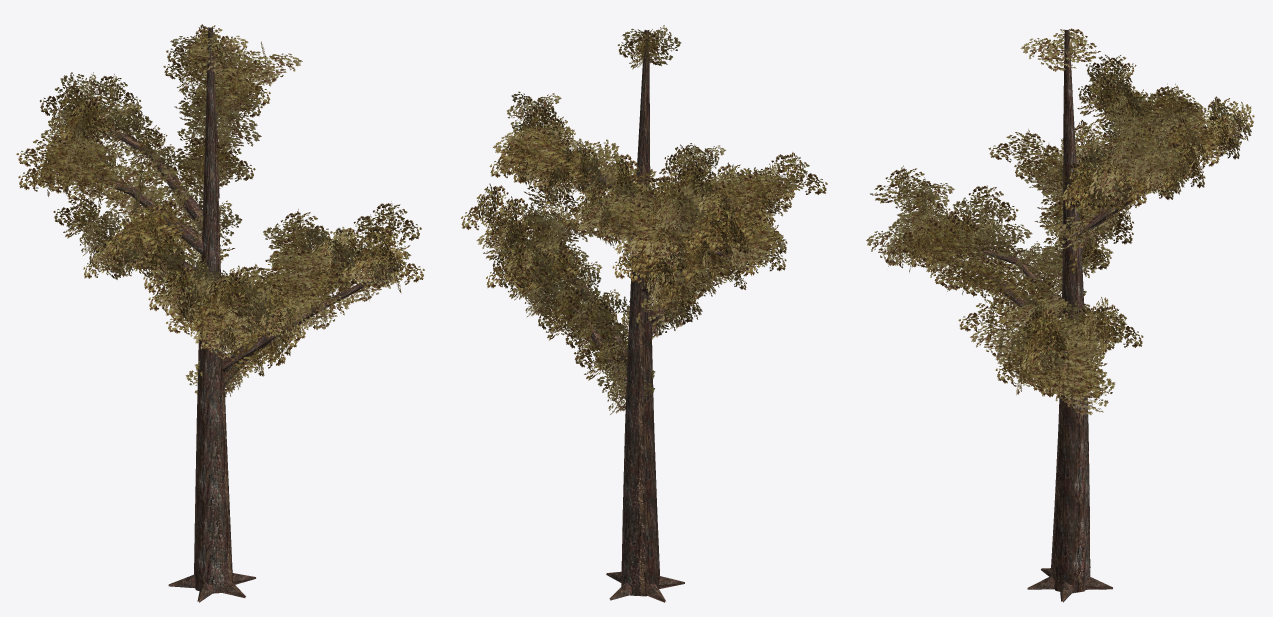
File: tree_3d_01_golden_beige_lod1.glb
3 views of the same model, side by side, from view 1: azimuth 30°, elevation 25°; view 2: azimuth 150°, elevation 25°; view 3: azimuth 270°, elevation 25° (orthographic).
Parts seen in each view (by area): view 1: foliage_cards, wood_geometry; view 2: foliage_cards, wood_geometry; view 3: foliage_cards, wood_geometry.
Part boxes in pixels (bbox=[...]): foliage_cards: bbox=[16, 24, 424, 396]; wood_geometry: bbox=[73, 27, 400, 602]; foliage_cards: bbox=[461, 25, 827, 414]; wood_geometry: bbox=[511, 30, 759, 602]; foliage_cards: bbox=[866, 28, 1254, 415]; wood_geometry: bbox=[909, 29, 1216, 602].
Bounding box in the file's own units: 6.63 × 10.07 × 6.51.
2 materials, 2 textured.
